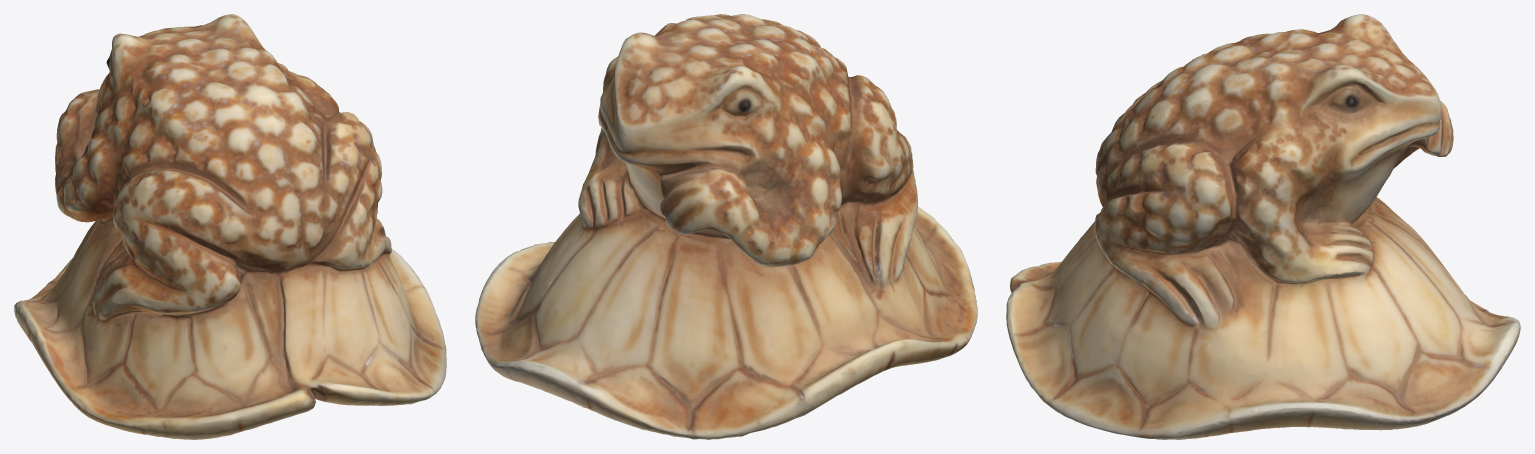
The model's file is toad.fbx.
3 renders of one model, left to right at view 1: azimuth 30°, elevation 25°; view 2: azimuth 150°, elevation 25°; view 3: azimuth 270°, elevation 25°, orthographic. The views are drawn at different scales.
Parts seen in each view (by area): view 1: Object_4; view 2: Object_4; view 3: Object_4.
Part boxes in pixels (bbox=[...]): Object_4: bbox=[14, 14, 446, 439]; Object_4: bbox=[475, 14, 977, 439]; Object_4: bbox=[1006, 14, 1520, 439].
Size of the model in its own units: 64.73 by 49.65 by 73.65.
